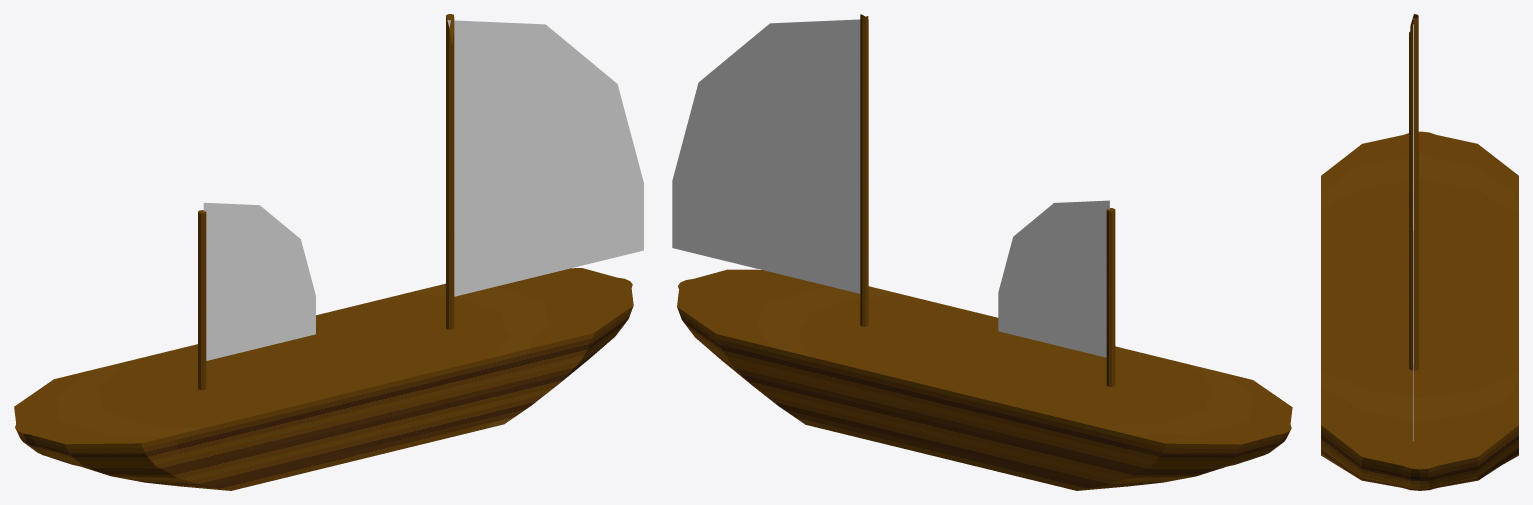
The model's file is boat3.fbx.
3 renders of one model, left to right at view 1: azimuth 30°, elevation 25°; view 2: azimuth 150°, elevation 25°; view 3: azimuth 270°, elevation 25°, orthographic. The views are drawn at different scales.
Visible parts, largest first — view 1: Plane.002; view 2: Plane.002; view 3: Plane.002.
Part boxes in pixels (x1,y1,x2,y2): Plane.002: (14,14,643,490); Plane.002: (672,14,1292,490); Plane.002: (1321,14,1518,490).
Size of the model in its own units: 916 by 536 by 223.
Materials: 2 (1 with a texture image).
